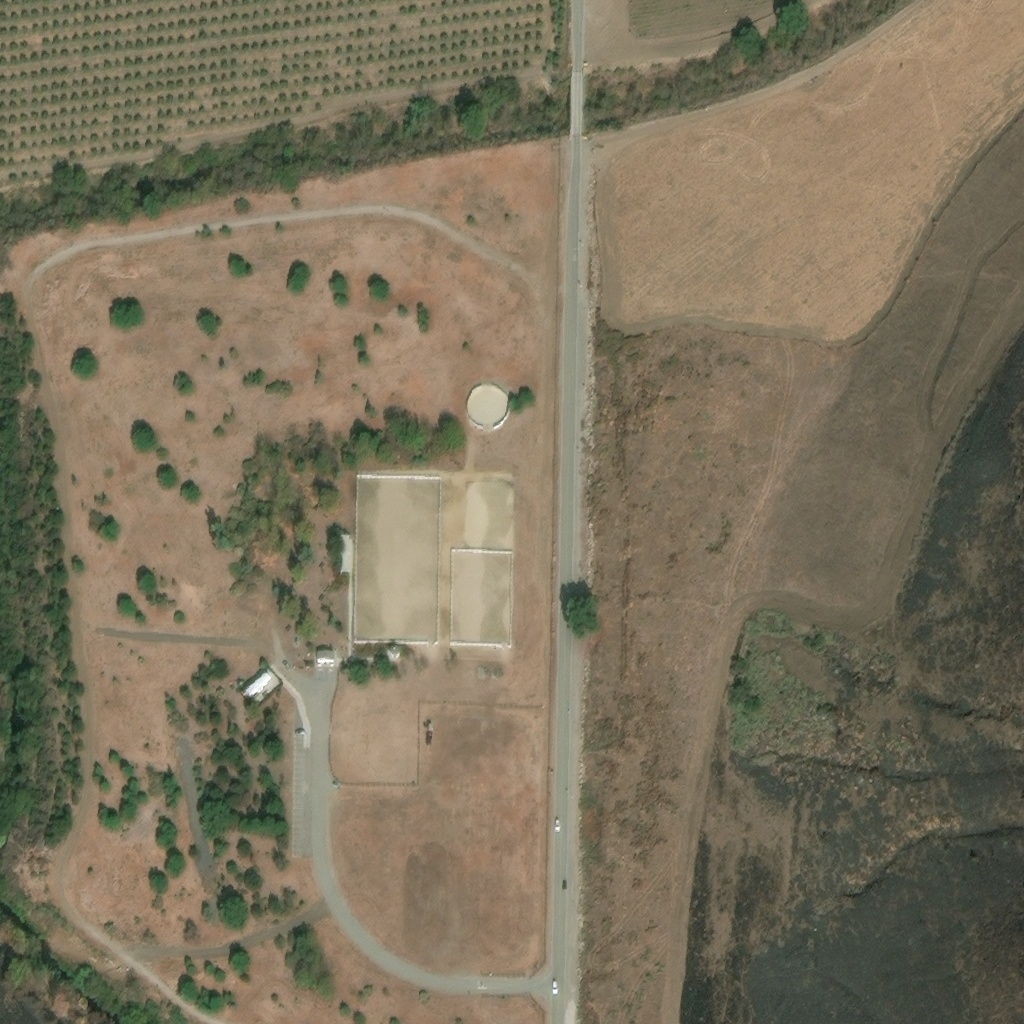0 no-damage: (339, 536, 352, 573), (317, 650, 335, 666), (388, 645, 399, 656)
